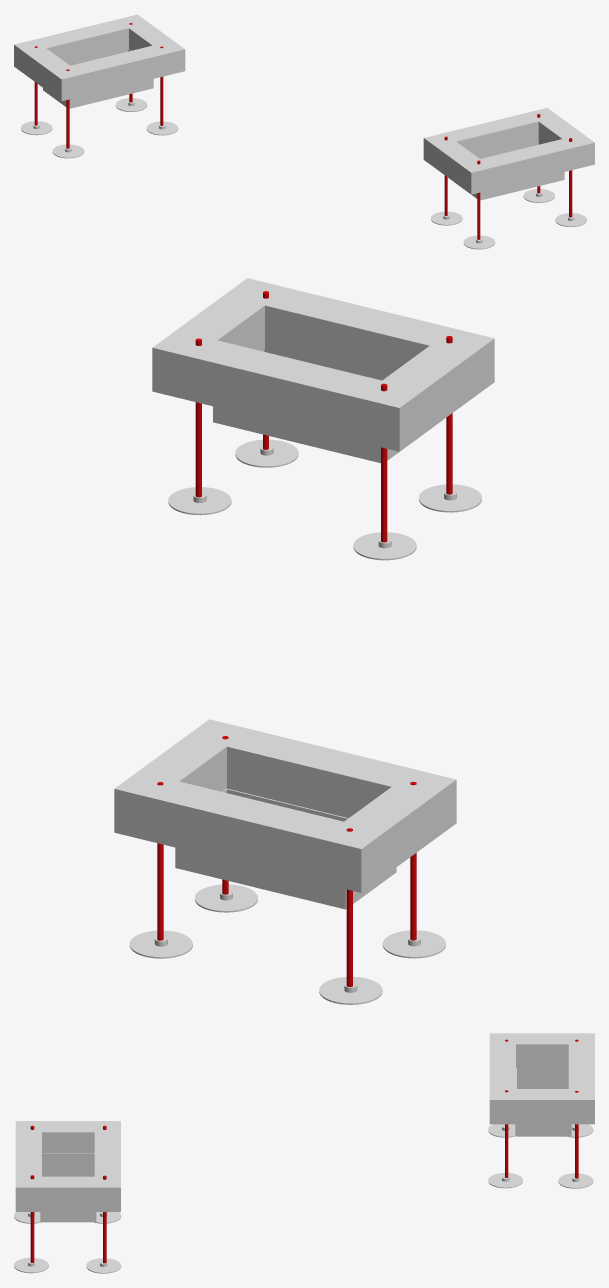
File: binrect.fbx
3 views of the same model, one above another, from view 1: azimuth 30°, elevation 25°; view 2: azimuth 150°, elevation 25°; view 3: azimuth 270°, elevation 25° (orthographic). The views are drawn at different scales.
Parts seen in each view (by area): view 1: Cylinder.000, Cylinder.003; view 2: Cylinder.000, Cylinder.003; view 3: Cylinder.000, Cylinder.003.
Boxes of the visible parts, box(x1,y1,x2,y2) form: Cylinder.000: box(14, 14, 185, 158); Cylinder.003: box(423, 108, 594, 249); Cylinder.000: box(114, 719, 456, 1004); Cylinder.003: box(152, 278, 494, 560); Cylinder.000: box(488, 1033, 594, 1188); Cylinder.003: box(14, 1121, 121, 1273).
Bounding box in the file's own units: 232 × 69.08 × 331.
